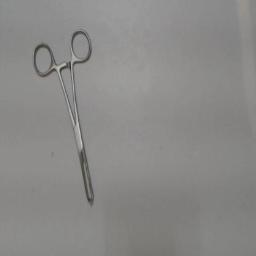Allis Tissue Forceps: (27, 22, 99, 212)
